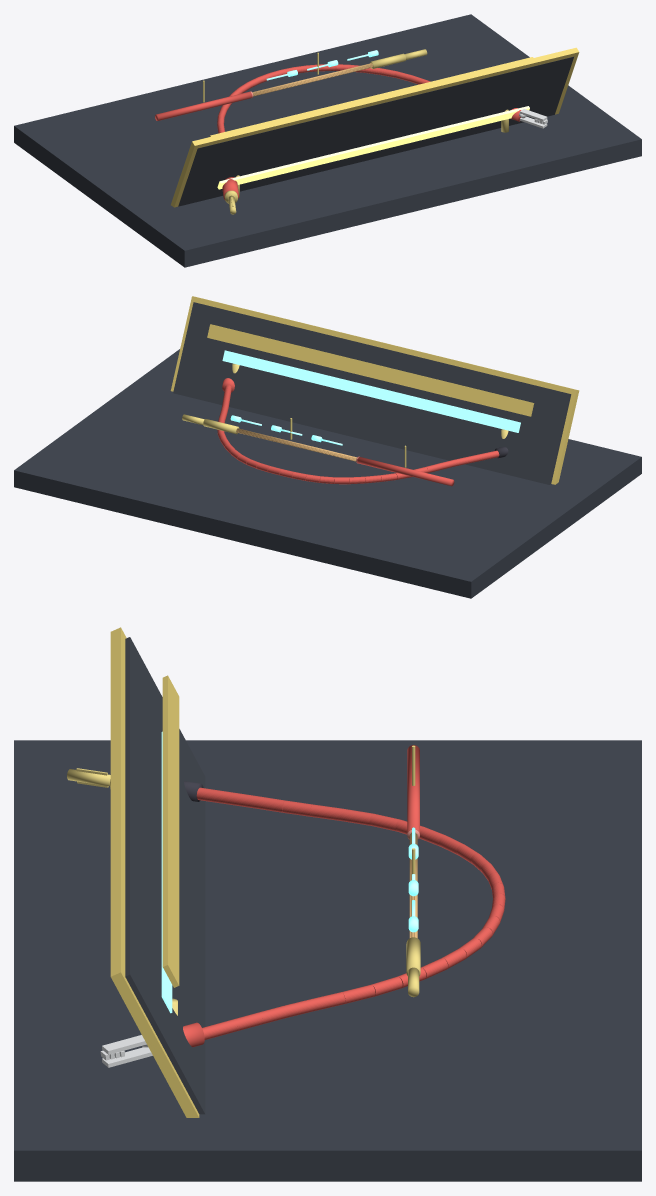
Rendered from connecting-wire.glb.
3 renders of one model, top to bottom at view 1: azimuth 30°, elevation 25°; view 2: azimuth 150°, elevation 25°; view 3: azimuth 270°, elevation 25°, orthographic. The views are drawn at different scales.
Visible parts, largest first — view 1: connecting-wire_Plinth, Sec_Plaque_Board, Sec_Plaque_Frame, Sec_Plaque_Bar_PVC, Sec_Outer_Jacket, Sec_Plaque_Title; view 2: connecting-wire_Plinth, Sec_Plaque_Board, Sec_Plaque_Title, Sec_Plaque_Bar_Cu, Sec_Plaque_Frame, Sec_Outer_Jacket; view 3: connecting-wire_Plinth, Sec_Plaque_Board, Sec_Plaque_Frame, Sec_Plaque_Title, Sec_Outer_Jacket, Sec_Plaque_Bar_Cu.
Boxes of the visible parts, x1,y1,x2,y2 form: connecting-wire_Plinth: (14, 14, 641, 267); Sec_Plaque_Board: (178, 56, 573, 206); Sec_Plaque_Frame: (171, 47, 579, 207); Sec_Plaque_Bar_PVC: (217, 106, 529, 189); Sec_Outer_Jacket: (155, 91, 252, 120); Sec_Plaque_Title: (210, 57, 533, 136); connecting-wire_Plinth: (14, 349, 641, 598); Sec_Plaque_Board: (173, 302, 571, 484); Sec_Plaque_Title: (207, 324, 534, 416); Sec_Plaque_Bar_Cu: (222, 350, 520, 432); Sec_Plaque_Frame: (170, 296, 579, 484); Sec_Outer_Jacket: (357, 457, 454, 486); connecting-wire_Plinth: (14, 740, 641, 1181); Sec_Plaque_Board: (125, 637, 205, 1114); Sec_Plaque_Frame: (110, 627, 199, 1117); Sec_Plaque_Title: (162, 675, 179, 987); Sec_Outer_Jacket: (407, 745, 419, 833); Sec_Plaque_Bar_Cu: (161, 731, 172, 1013).
Bounding box in the file's own units: 0.34 × 0.0683 × 0.22.
